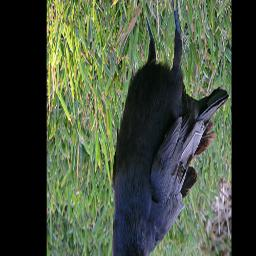Crow: (112, 0, 229, 256)
